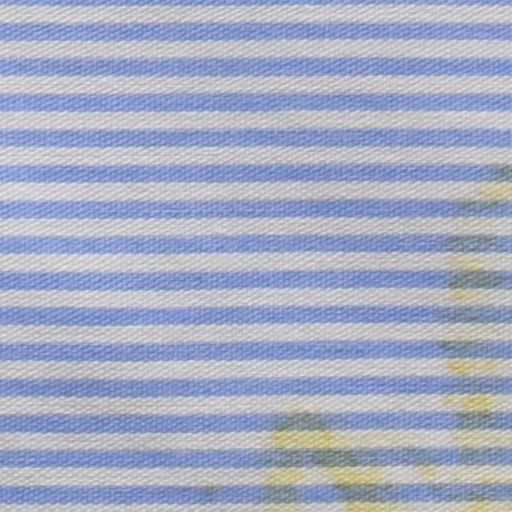defect: (254, 169, 512, 512)
